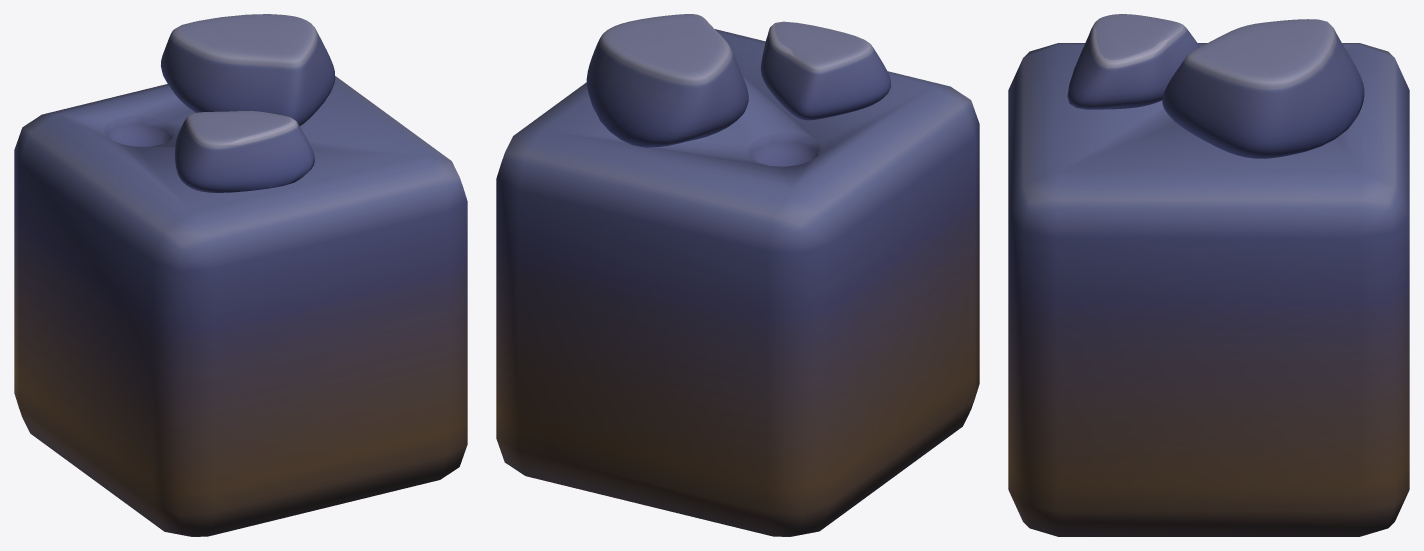
File: rock_block.fbx
3 renders of one model, left to right at view 1: azimuth 30°, elevation 25°; view 2: azimuth 150°, elevation 25°; view 3: azimuth 270°, elevation 25°, orthographic. The views are drawn at different scales.
Visible parts, largest first — view 1: Cube; view 2: Cube; view 3: Cube.
Boxes of the visible parts, box(x1,y1,x2,y2) form: Cube: box(14, 14, 467, 536); Cube: box(496, 14, 979, 536); Cube: box(1008, 14, 1409, 536).
Bounding box in the file's own units: 200 × 245 × 200.
